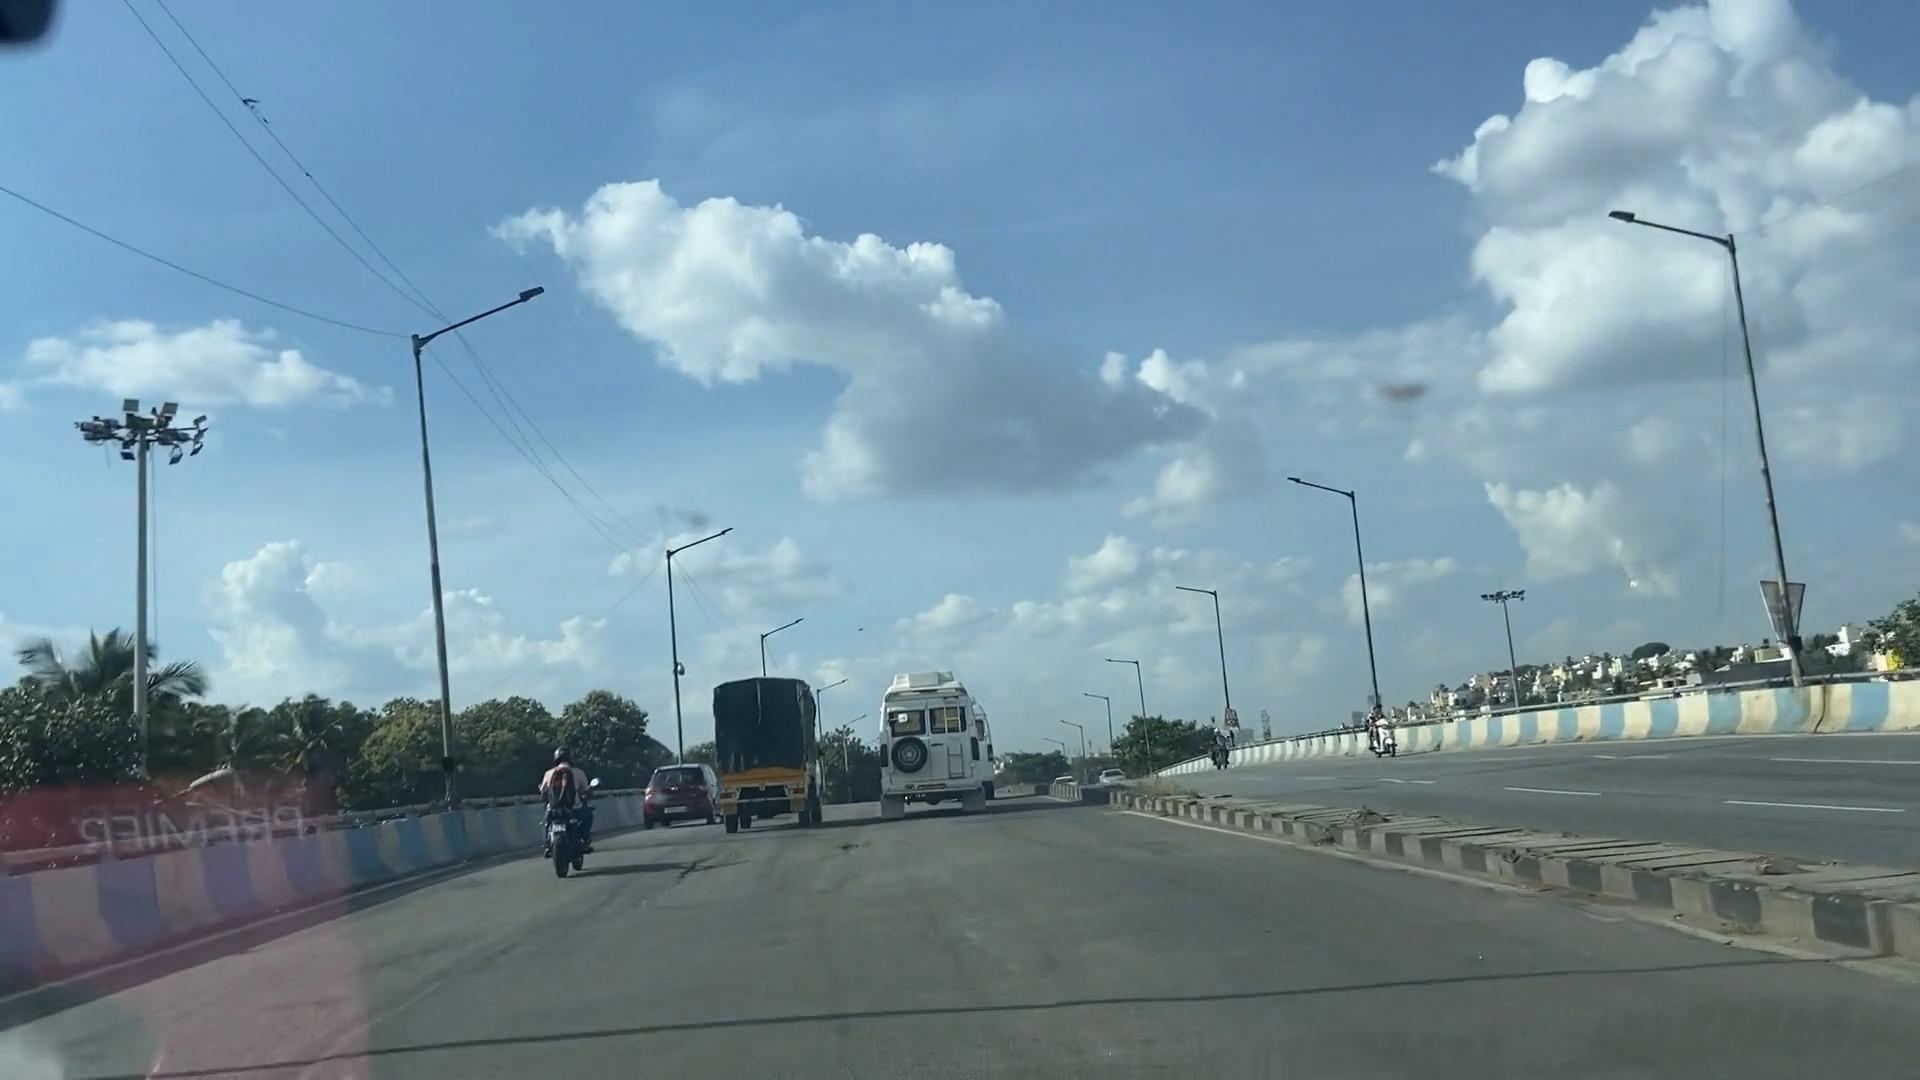HMV: (704, 662, 831, 847), (870, 661, 1000, 822)
LMV: (533, 735, 596, 870), (653, 750, 700, 822)
RoadDamages: (255, 913, 716, 1080)
